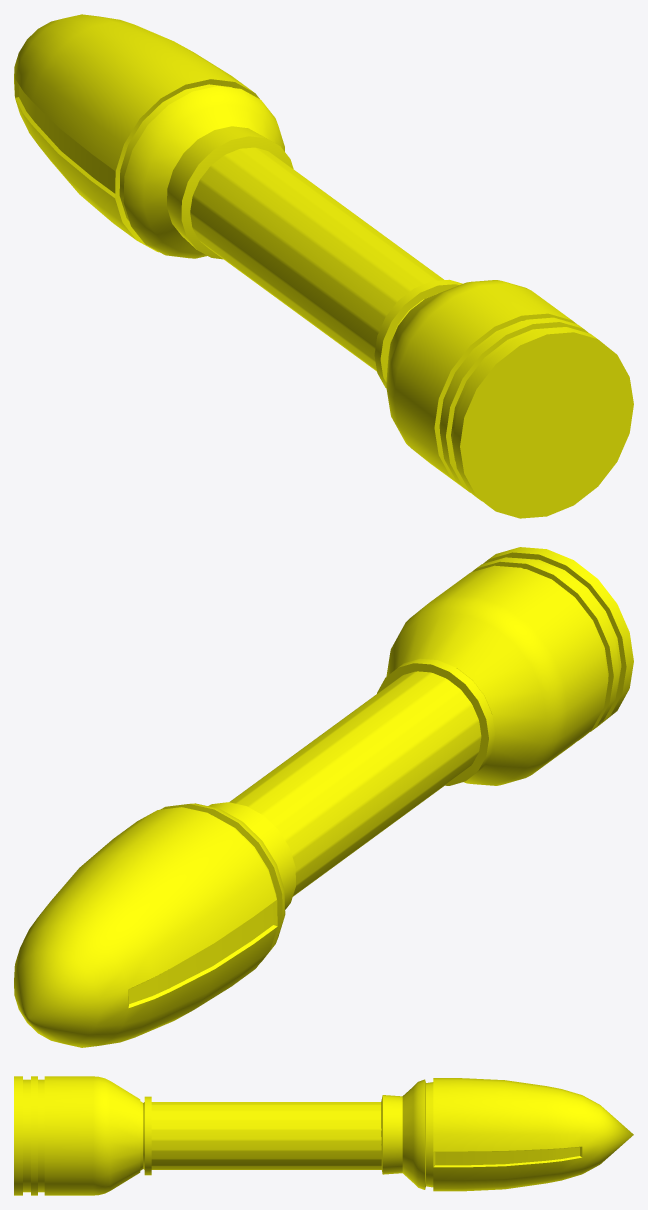
Rendered from Proiettile razzo.fbx.
The picture shows the model from 3 angles, top to bottom: view 1: azimuth 30°, elevation 25°; view 2: azimuth 150°, elevation 25°; view 3: azimuth 270°, elevation 25°; orthographic projection. The views are drawn at different scales.
Parts seen in each view (by area): view 1: pCylinder3, pCylinder4, pCylinder2; view 2: pCylinder4, pCylinder3, pCylinder2; view 3: pCylinder4, pCylinder2, pCylinder3.
Boxes of the visible parts, <box> form: pCylinder3: <box>374,279,633,518</box>; pCylinder4: <box>14,14,293,259</box>; pCylinder2: <box>190,147,443,371</box>; pCylinder4: <box>14,802,295,1047</box>; pCylinder3: <box>377,547,633,785</box>; pCylinder2: <box>229,671,481,896</box>; pCylinder4: <box>381,1078,633,1191</box>; pCylinder2: <box>151,1102,381,1169</box>; pCylinder3: <box>14,1076,151,1195</box>.
Size of the model in its own units: 0.6603 by 0.6603 by 3.41.
